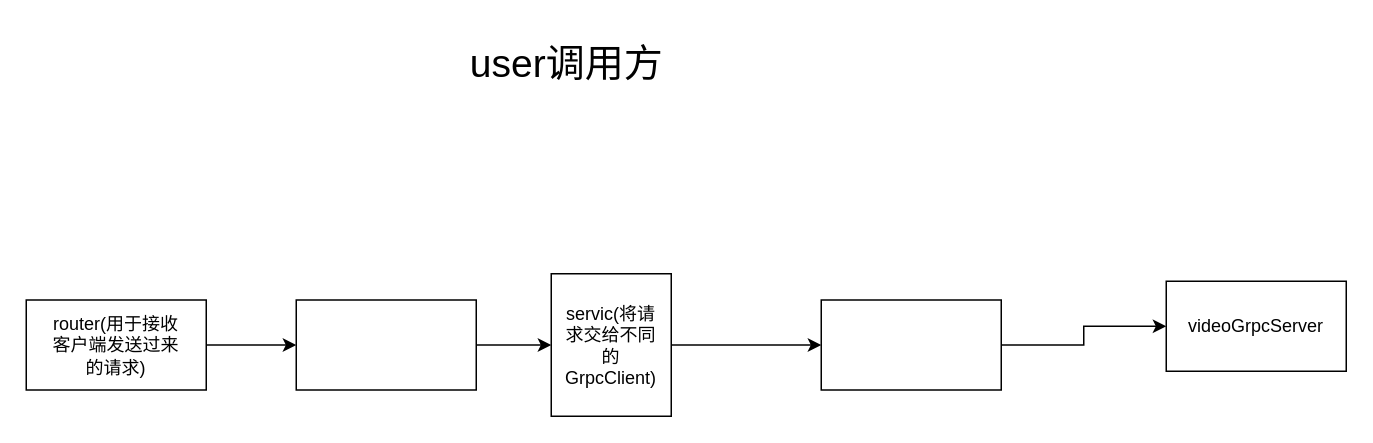
This 1373x443 diagram has some shape labels left out. Here are the shapes that lost their labels. From the top down, the box of each, then its label:
(295, 298, 476, 390): api(解析出请求携带的数据并将处理好的结果返回客户端)
(820, 298, 1001, 390): videoGrpcClient
